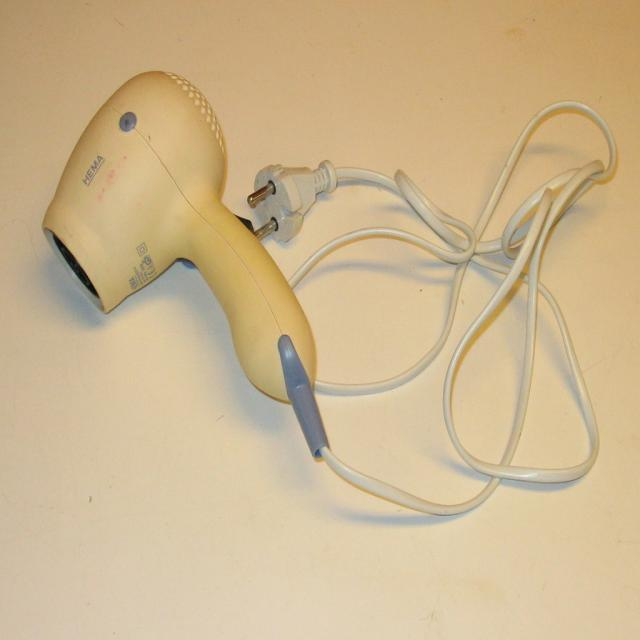dryer: (36, 52, 394, 528)
